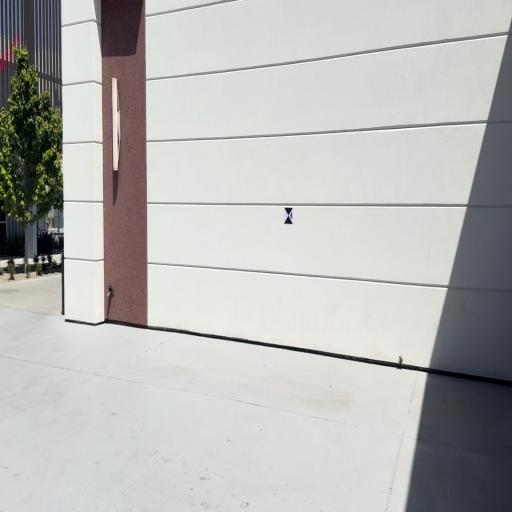target4: (284, 207, 294, 225)
